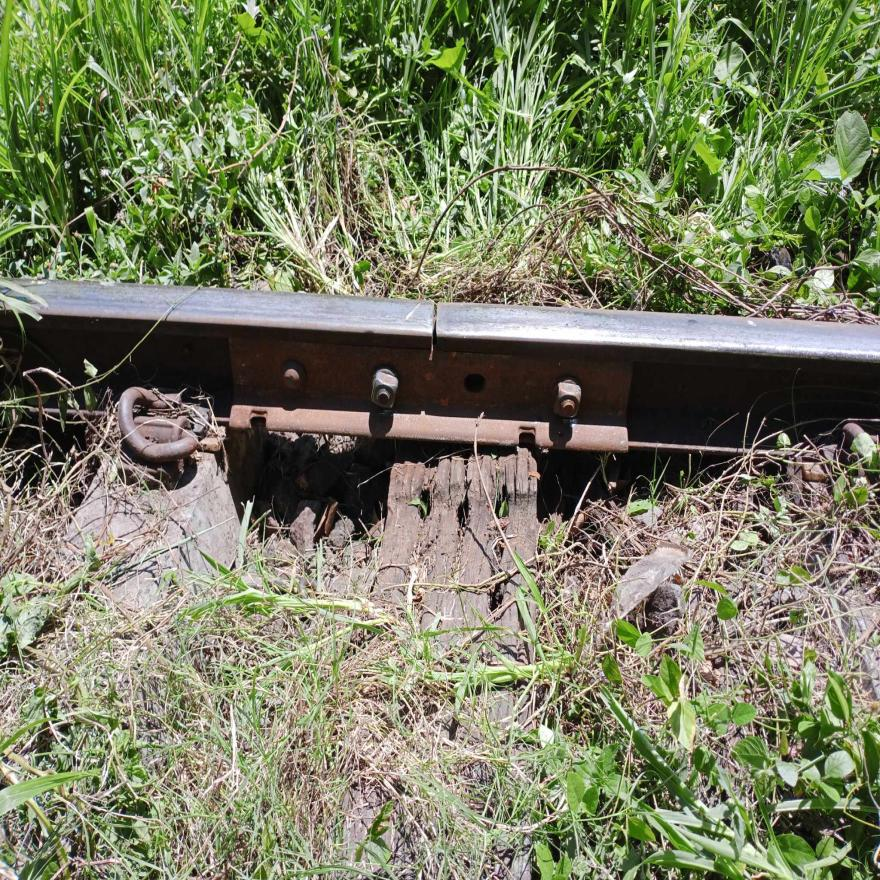railway-gap: (383, 274, 485, 376)
